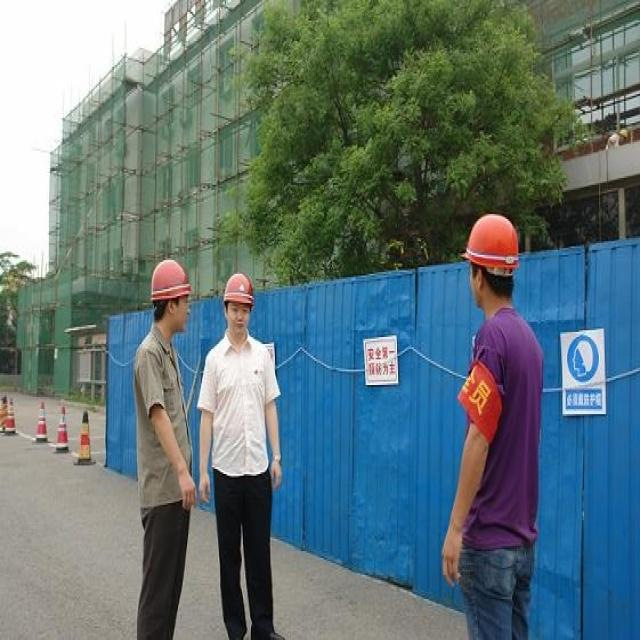helmet: (463, 275, 522, 428), (147, 338, 191, 454), (218, 358, 257, 458)
